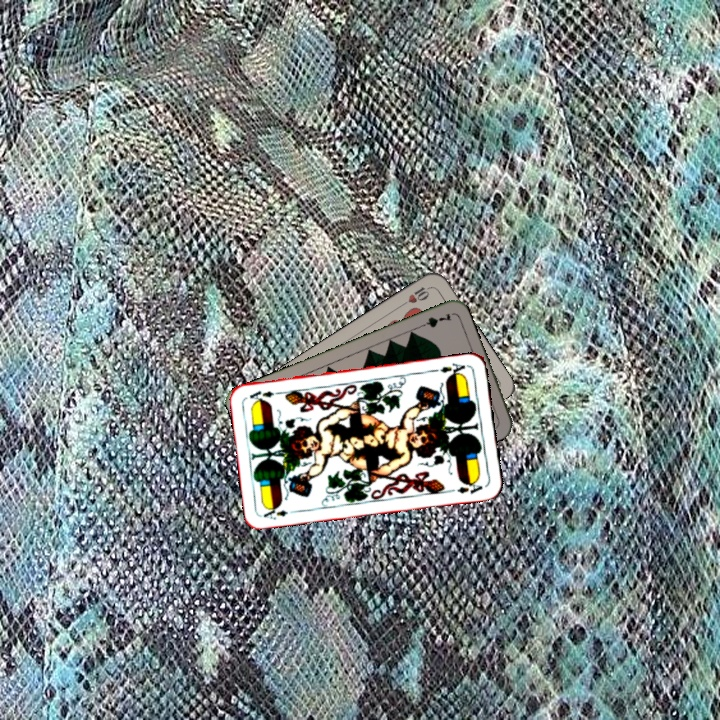EA: (436, 359, 471, 379), (259, 502, 290, 522)
G7: (414, 309, 454, 331)
H10: (398, 282, 434, 309)
